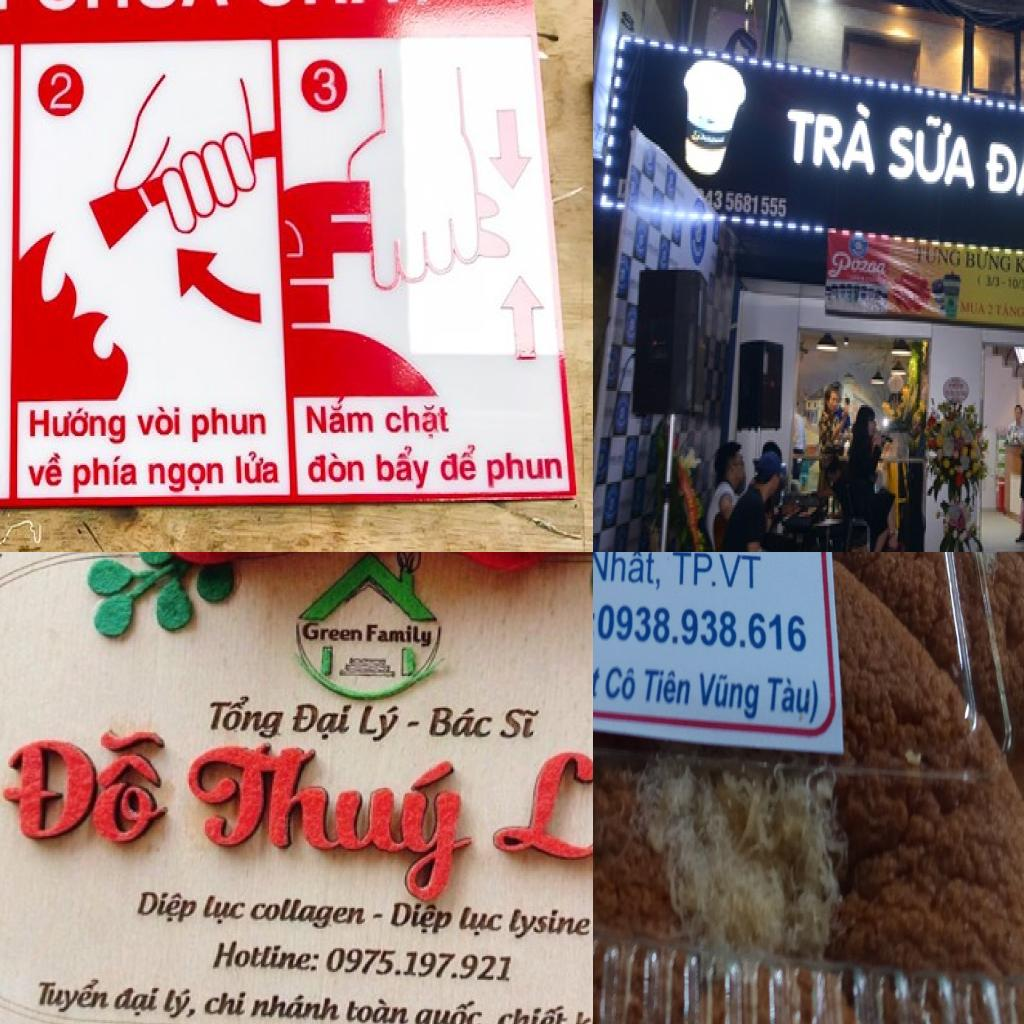text: (180, 734, 478, 906), (0, 714, 171, 855), (481, 748, 593, 876), (597, 600, 807, 656), (784, 88, 880, 180), (325, 945, 517, 986), (887, 110, 979, 194), (246, 894, 370, 932), (210, 937, 322, 978), (26, 404, 128, 448), (205, 692, 290, 738), (30, 974, 114, 1020), (670, 552, 764, 593), (697, 664, 761, 722), (502, 904, 593, 943), (249, 987, 344, 1024), (482, 448, 566, 488), (983, 123, 1024, 202), (379, 398, 454, 440), (302, 396, 375, 439), (131, 886, 202, 930), (371, 442, 433, 492), (144, 457, 224, 494), (424, 703, 498, 743), (71, 452, 138, 496), (188, 406, 268, 442), (290, 700, 355, 743), (593, 552, 662, 592), (641, 660, 693, 713), (386, 902, 456, 940), (434, 437, 482, 491), (411, 996, 492, 1024), (303, 450, 367, 484), (198, 889, 252, 929), (342, 994, 411, 1024), (110, 982, 164, 1020), (494, 999, 576, 1024), (356, 702, 406, 742), (724, 191, 790, 221), (232, 448, 281, 488), (364, 625, 436, 652), (454, 906, 506, 942), (132, 402, 183, 438), (494, 705, 542, 743), (24, 446, 62, 488), (965, 244, 1013, 277), (601, 663, 638, 704), (160, 982, 199, 1020), (202, 988, 250, 1017), (49, 69, 78, 116), (914, 244, 963, 270), (310, 63, 340, 105), (301, 624, 363, 642), (994, 302, 1024, 323), (619, 7, 637, 37), (959, 300, 988, 317), (976, 275, 1002, 291), (713, 188, 726, 212), (1008, 276, 1024, 293), (1014, 253, 1024, 279), (986, 302, 996, 319)
